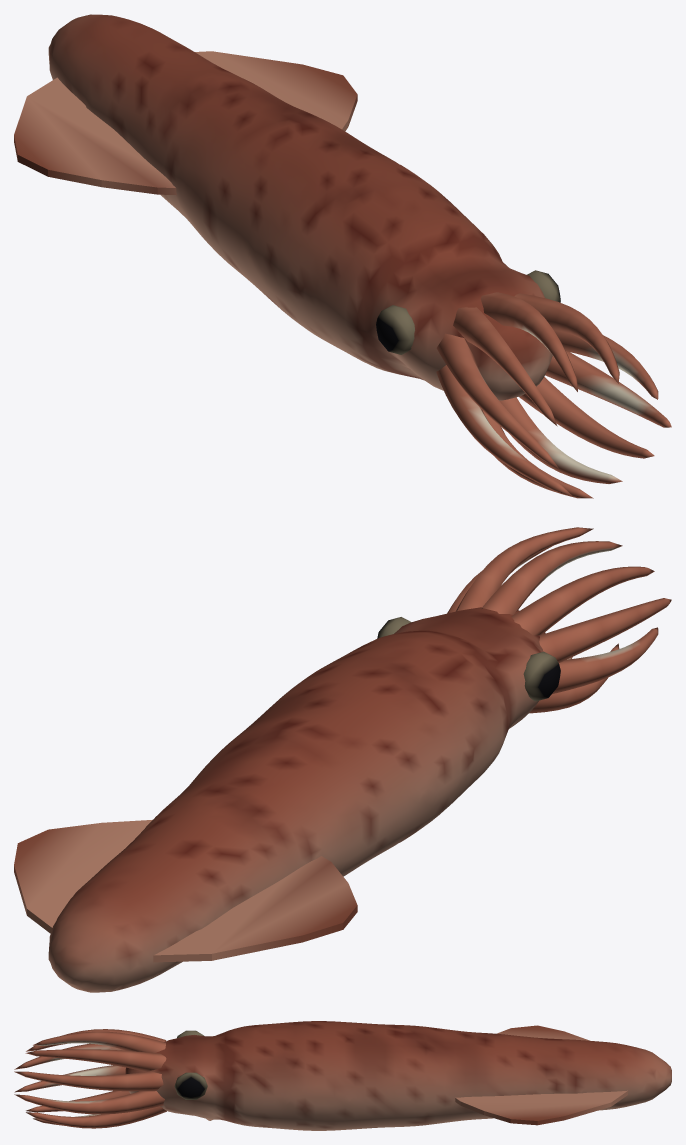
File: Wyoteuthis.fbx
3 renders of one model, top to bottom at view 1: azimuth 30°, elevation 25°; view 2: azimuth 150°, elevation 25°; view 3: azimuth 270°, elevation 25°, orthographic. The views are drawn at different scales.
Parts seen in each view (by area): view 1: Wyoteuthis; view 2: Wyoteuthis; view 3: Wyoteuthis.
Part boxes in pixels (box(x1,y1,x2,y2)): Wyoteuthis: box(14, 14, 671, 498); Wyoteuthis: box(14, 527, 671, 992); Wyoteuthis: box(14, 1021, 671, 1130).
Bounding box in the file's own units: 0.6758 × 0.3192 × 1.97.
